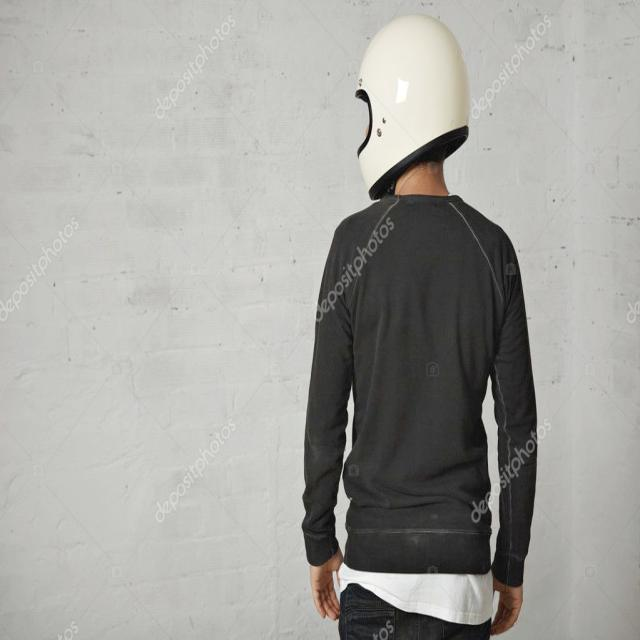helmet: (355, 15, 469, 199)
